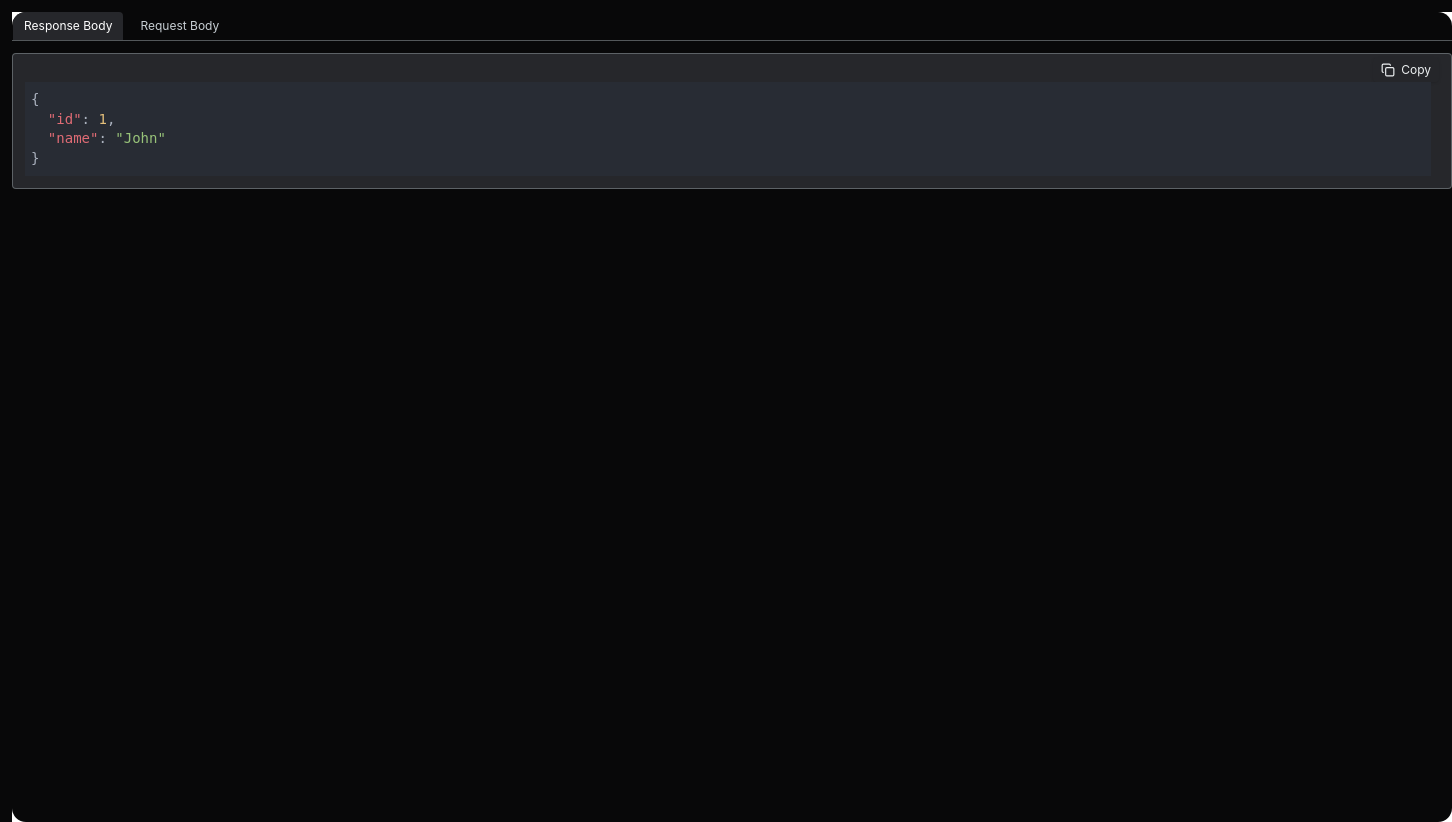
ResponsePanel › displays request body content when Request Body tab is active
Click the tab "Request Body" at (180, 26), box [128,12,231,40]
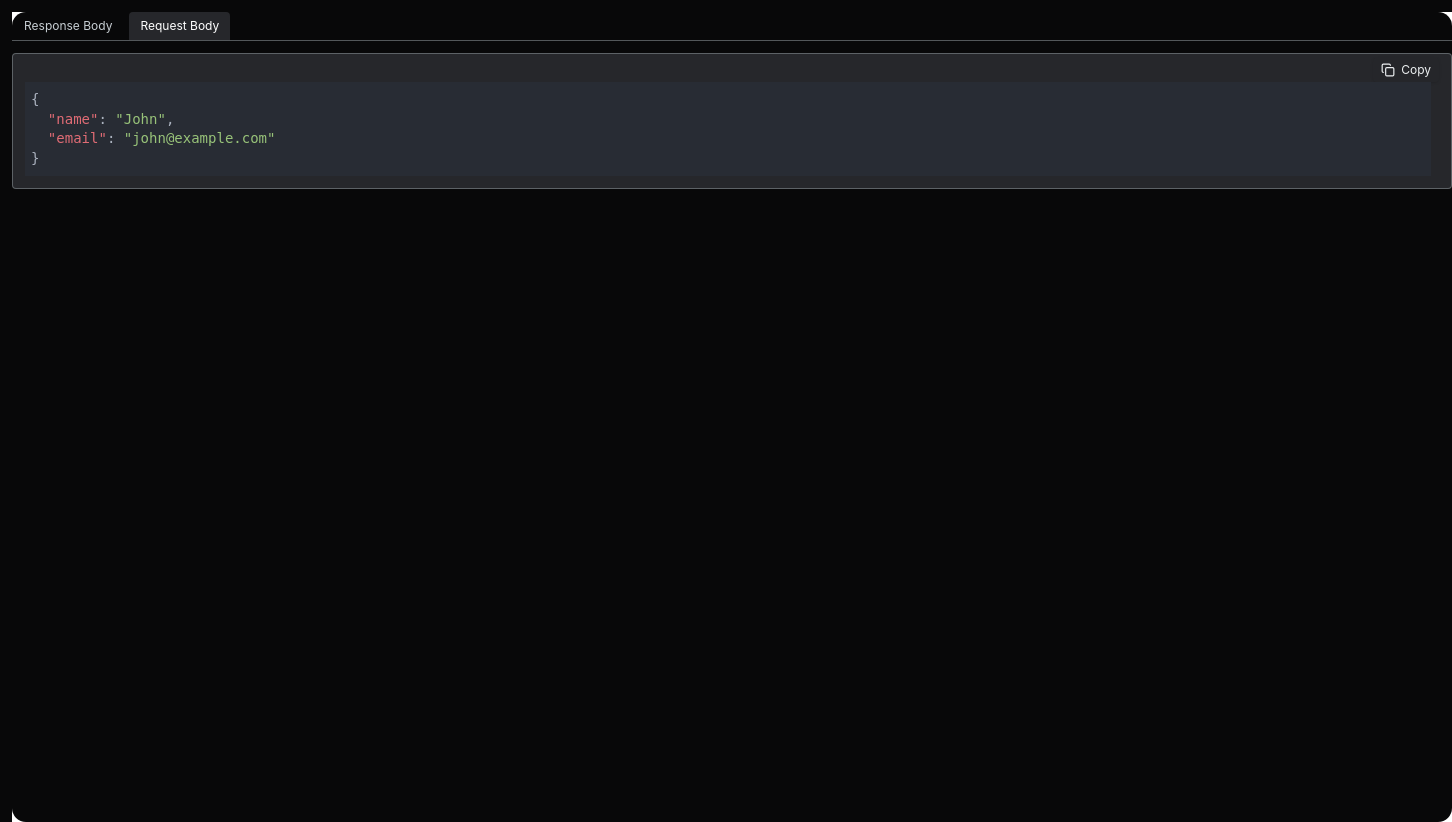
Check: the element with test id "code-editor" is shown, box [12,53,1451,189]
Check: the text box "\"john@example.com\"" is shown, box [124,130,276,146]
